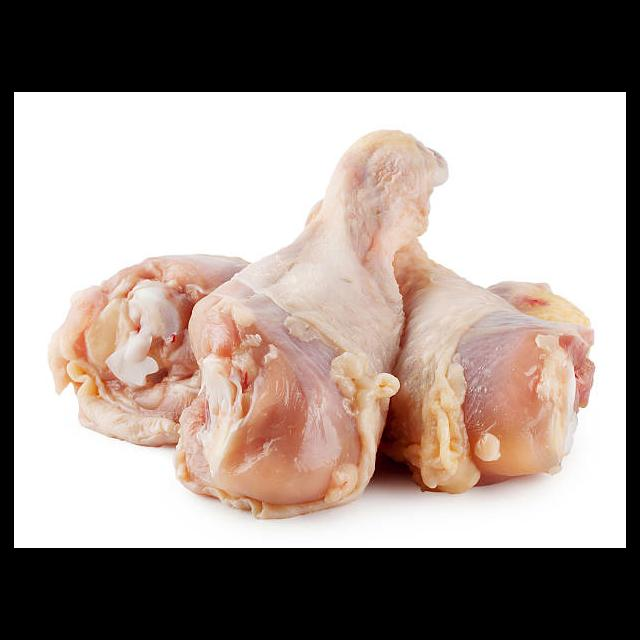chicken: (175, 124, 448, 522), (391, 236, 598, 493), (47, 253, 280, 449)
